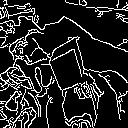cube: (46, 33, 87, 91)
